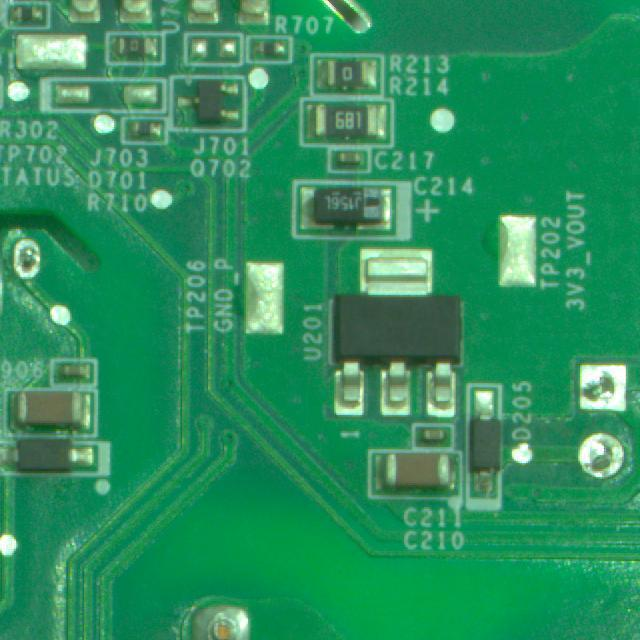Insufficient solder: (563, 354, 640, 417), (11, 231, 52, 288), (571, 436, 623, 480)
